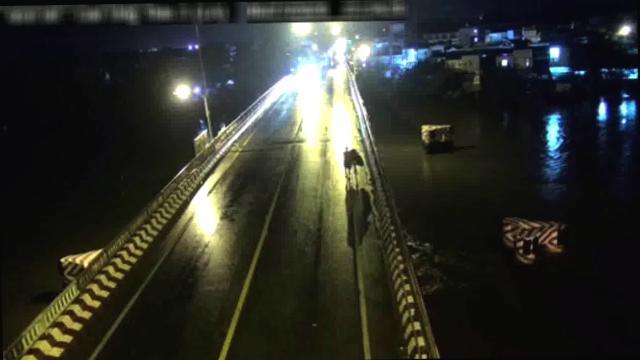Bike: (343, 144, 362, 185)
